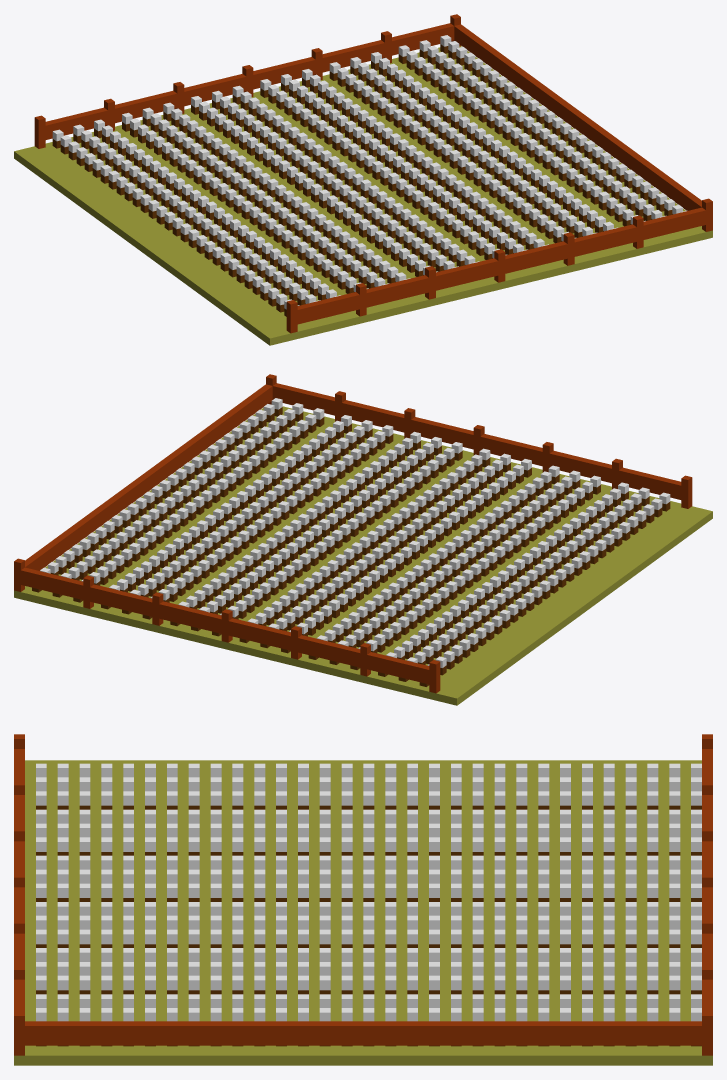
Rendered from farm-2.obj.
The picture shows the model from 3 angles, top to bottom: view 1: azimuth 30°, elevation 25°; view 2: azimuth 150°, elevation 25°; view 3: azimuth 270°, elevation 25°; orthographic projection. The views are drawn at different scales.
Bounding box in the file's own units: 6.4 × 0.5 × 6.4.
Materials: 1 (1 with a texture image).
